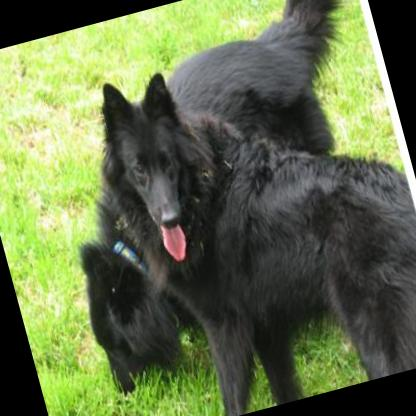groenendael: (74, 8, 416, 416)
